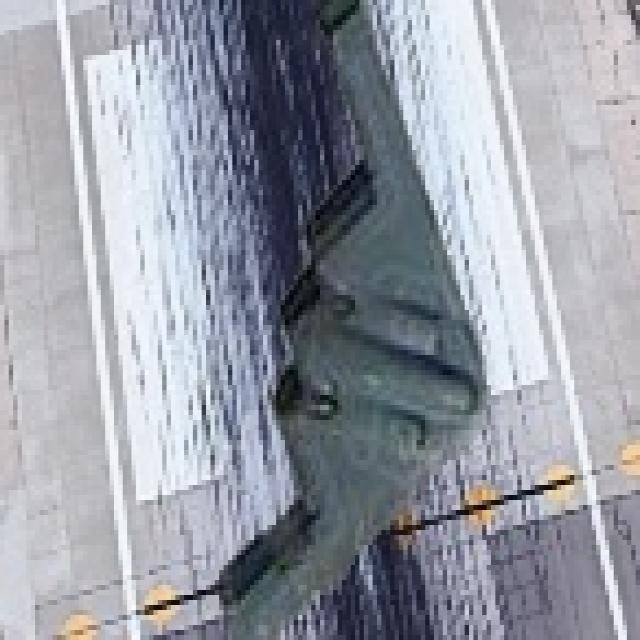B-2_TopDown: (186, 0, 491, 635)
